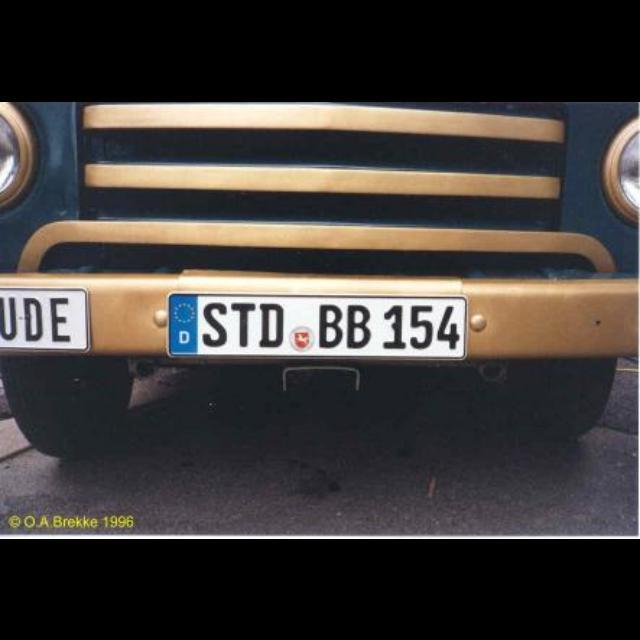license-plates: (168, 294, 467, 360)
